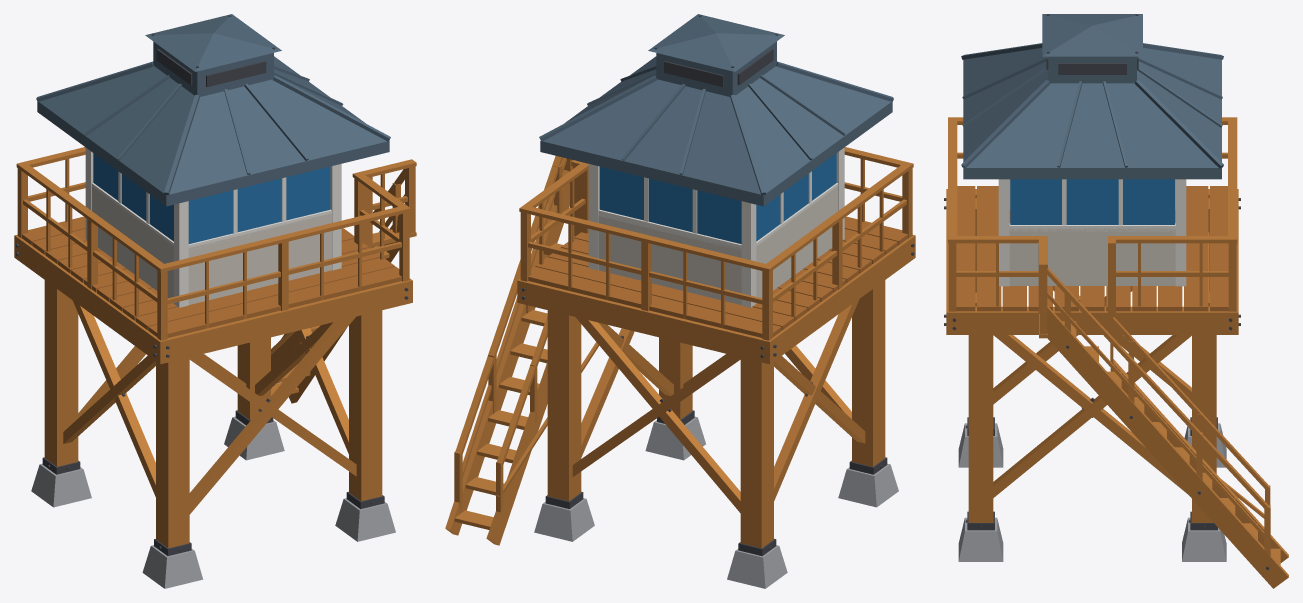
The model's file is mills q5 control tower.fbx.
The picture shows the model from 3 angles, left to right: view 1: azimuth 30°, elevation 25°; view 2: azimuth 150°, elevation 25°; view 3: azimuth 270°, elevation 25°; orthographic projection.
Parts seen in each view (by area): view 1: Timber_Leg_3; view 2: Timber_Leg_3; view 3: Timber_Leg_3.
Boxes of the visible parts, x1,y1,x2,y2 form: Timber_Leg_3: (14,14,416,588); Timber_Leg_3: (445,14,915,588); Timber_Leg_3: (944,14,1288,588).
Size of the model in its own units: 458 by 688 by 448.
